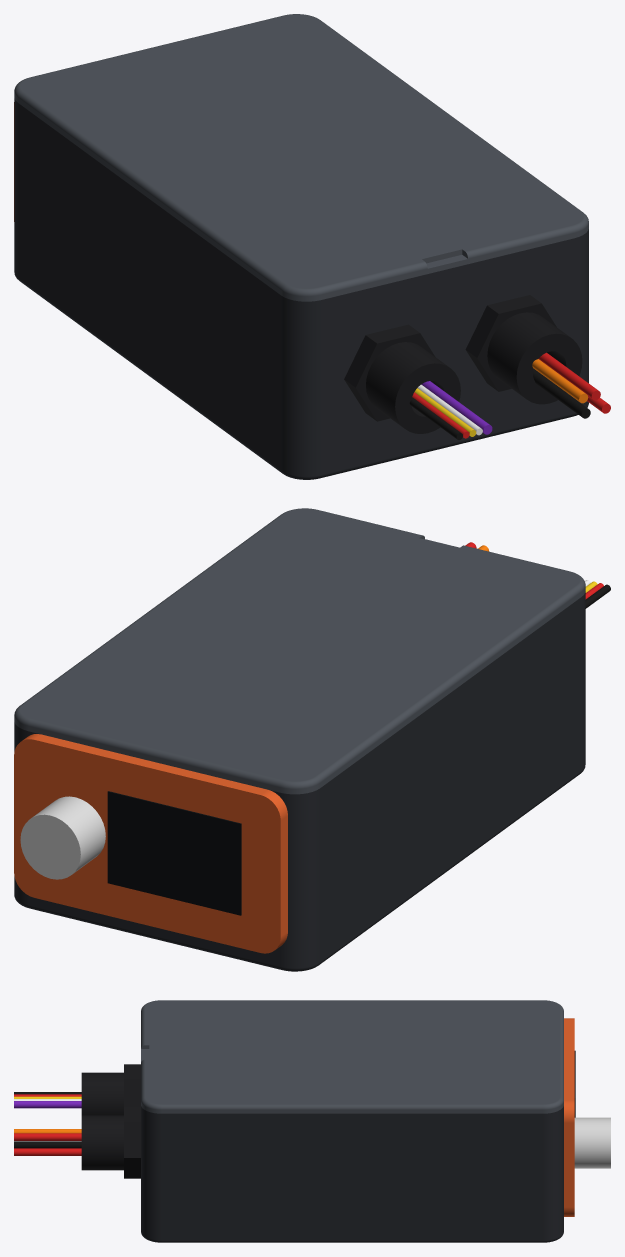
File: wrangler_air_cust_def.glb
3 views of the same model, one above another, from view 1: azimuth 30°, elevation 25°; view 2: azimuth 150°, elevation 25°; view 3: azimuth 270°, elevation 25° (orthographic). The views are drawn at different scales.
Parts seen in each view (by area): view 1: box_cust_def_lid, box_cust_def_body, gland_M12_power, gland_M12_sensor_ARB, GND_to_DinMeter_minus, 12V_to_DinMeter_plus, relay_NO_to_ARB, relay_K2_NO_to_valve; view 2: box_cust_def_lid, box_cust_def_body, bezel, screen, knob; view 3: box_cust_def_body, box_cust_def_lid, gland_M12_power, gland_M12_sensor_ARB, bezel, knob, relay_NO_to_ARB, GND_to_DinMeter_minus, 12V_to_DinMeter_plus, 12V_to_relay_COM, relay_K2_NO_to_valve.
Part boxes in pixels (left/top/right/bottom): box_cust_def_lid: left=14, top=14, right=588, bottom=301; box_cust_def_body: left=14, top=98, right=588, bottom=479; gland_M12_power: left=465, top=295, right=582, bottom=404; gland_M12_sensor_ARB: left=344, top=324, right=460, bottom=433; GND_to_DinMeter_minus: left=533, top=369, right=590, bottom=418; 12V_to_DinMeter_plus: left=538, top=352, right=600, bottom=400; relay_NO_to_ARB: left=421, top=381, right=492, bottom=434; relay_K2_NO_to_valve: left=532, top=359, right=588, bottom=403; box_cust_def_lid: left=14, top=508, right=585, bottom=794; box_cust_def_body: left=14, top=591, right=585, bottom=971; bezel: left=14, top=734, right=287, bottom=953; screen: left=107, top=791, right=241, bottom=915; knob: left=20, top=796, right=105, bottom=879; box_cust_def_body: left=141, top=1106, right=563, bottom=1242; box_cust_def_lid: left=141, top=1000, right=563, bottom=1113; gland_M12_power: left=81, top=1107, right=140, bottom=1178; gland_M12_sensor_ARB: left=81, top=1064, right=140, bottom=1115; bezel: left=564, top=1018, right=574, bottom=1216; knob: left=574, top=1117, right=610, bottom=1168; relay_NO_to_ARB: left=14, top=1101, right=81, bottom=1108; GND_to_DinMeter_minus: left=14, top=1141, right=81, bottom=1148; 12V_to_DinMeter_plus: left=14, top=1133, right=81, bottom=1140; 12V_to_relay_COM: left=14, top=1148, right=81, bottom=1155; relay_K2_NO_to_valve: left=14, top=1129, right=81, bottom=1133.
Bounding box in the file's own units: 60 × 36 × 141.
